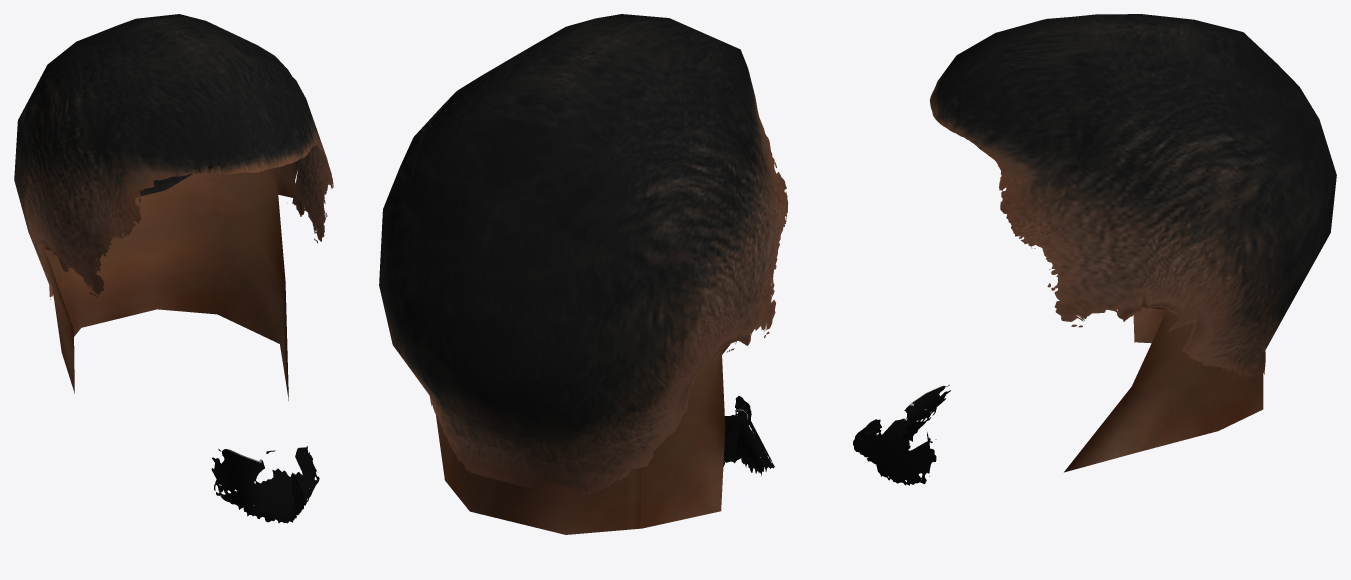
The model's file is fra-saliba.glb.
3 views of the same model, side by side, from view 1: azimuth 30°, elevation 25°; view 2: azimuth 150°, elevation 25°; view 3: azimuth 270°, elevation 25° (orthographic). The views are drawn at different scales.
Parts seen in each view (by area): view 1: hair; view 2: hair; view 3: hair.
Part boxes in pixels (bbox=[...]): hair: bbox=[14, 14, 333, 523]; hair: bbox=[379, 14, 788, 534]; hair: bbox=[853, 14, 1336, 485].
Size of the model in its own units: 0.147 by 0.2455 by 0.2307.
Materials: 2 (2 with a texture image).
